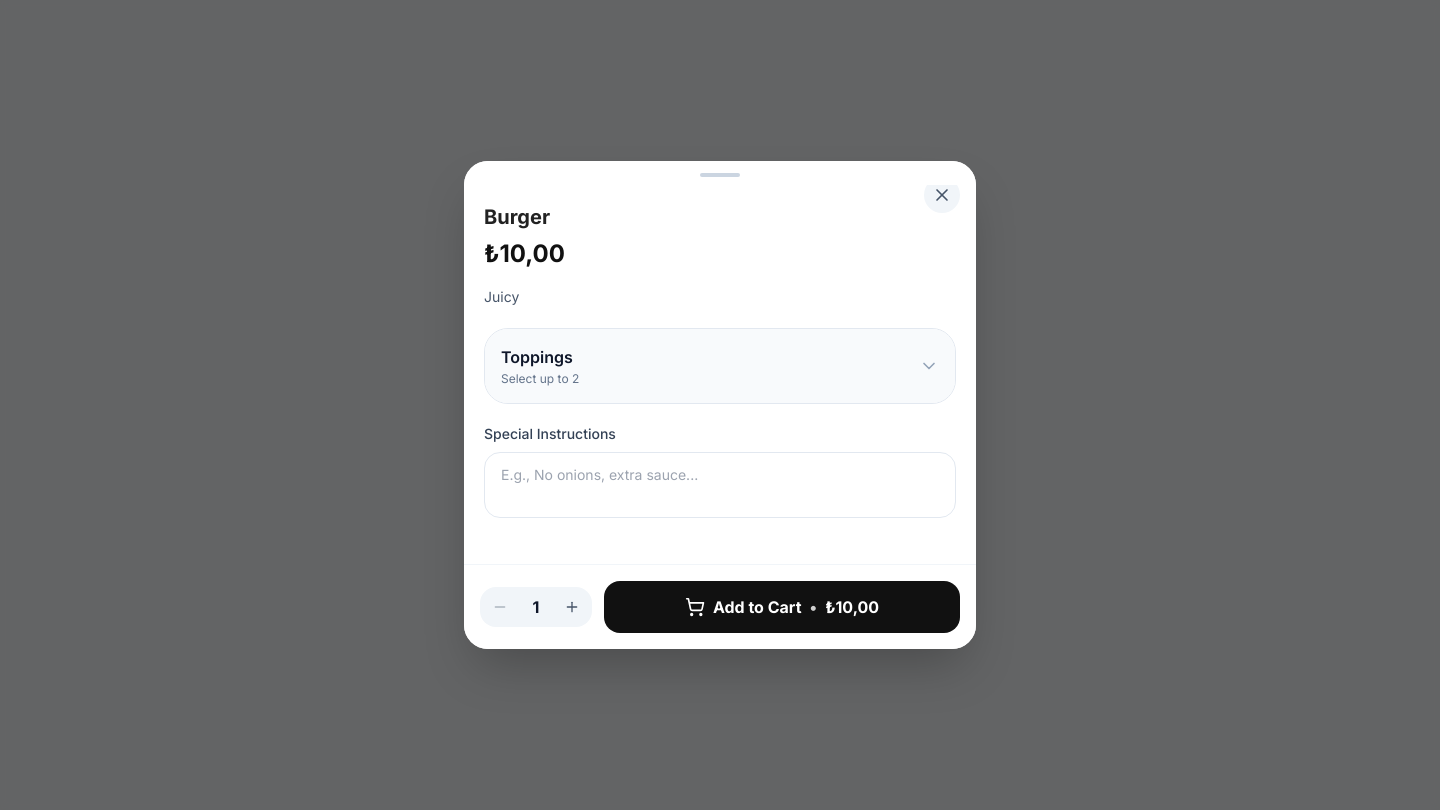
Test: ProductDetailModalWithCart — multi-select max enforcement › deselecting frees a slot so a different option can be chosen
The width and height of the screenshot is (1440, 810).
Step 1. Click the button "Toppings Select up to 2" → (537, 357), box [485,329,955,403]
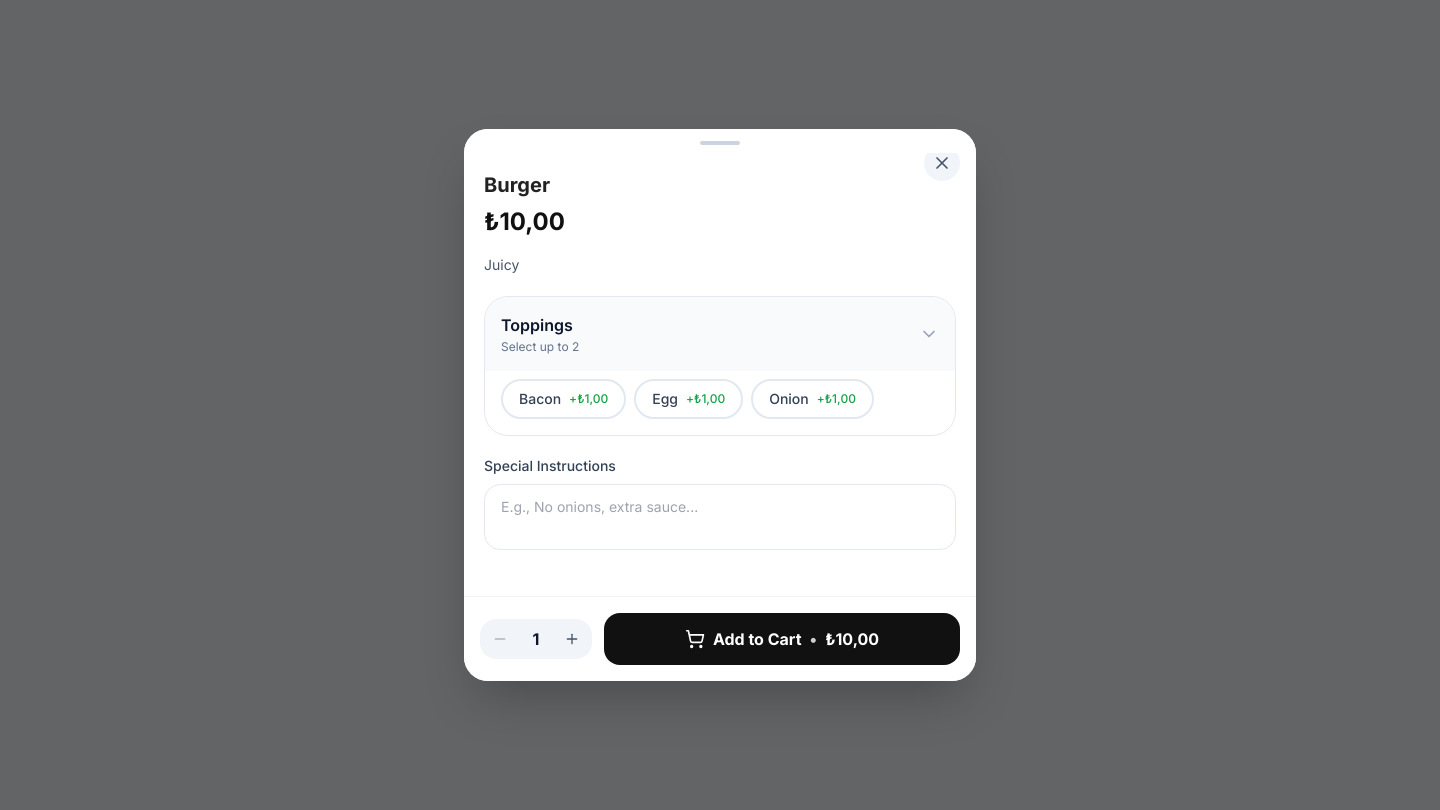
Step 2. Click the button "Bacon +₺1,00" → (564, 399), box [501,379,626,419]
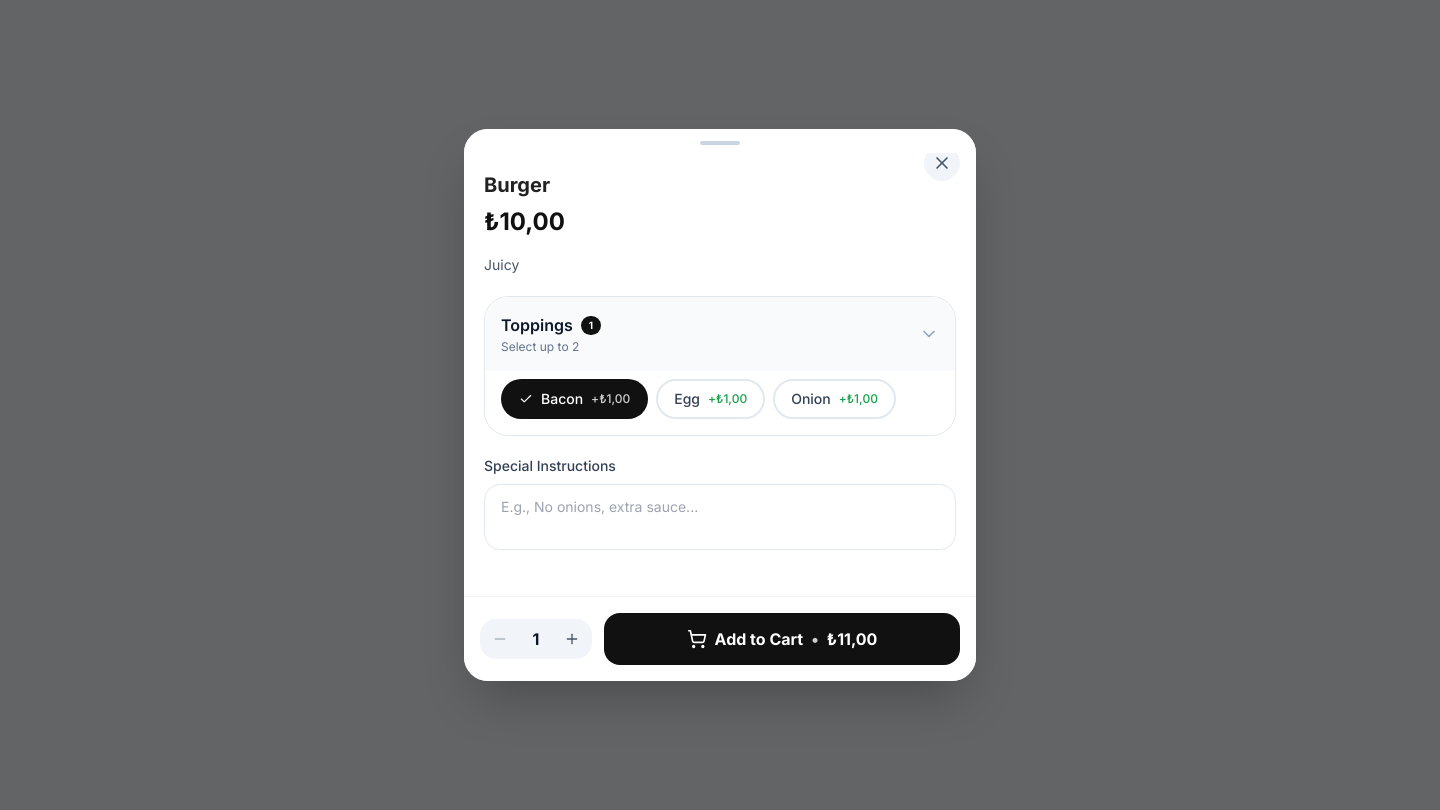
Step 3. Click the button "Egg +₺1,00" → (711, 399), box [656,379,765,419]
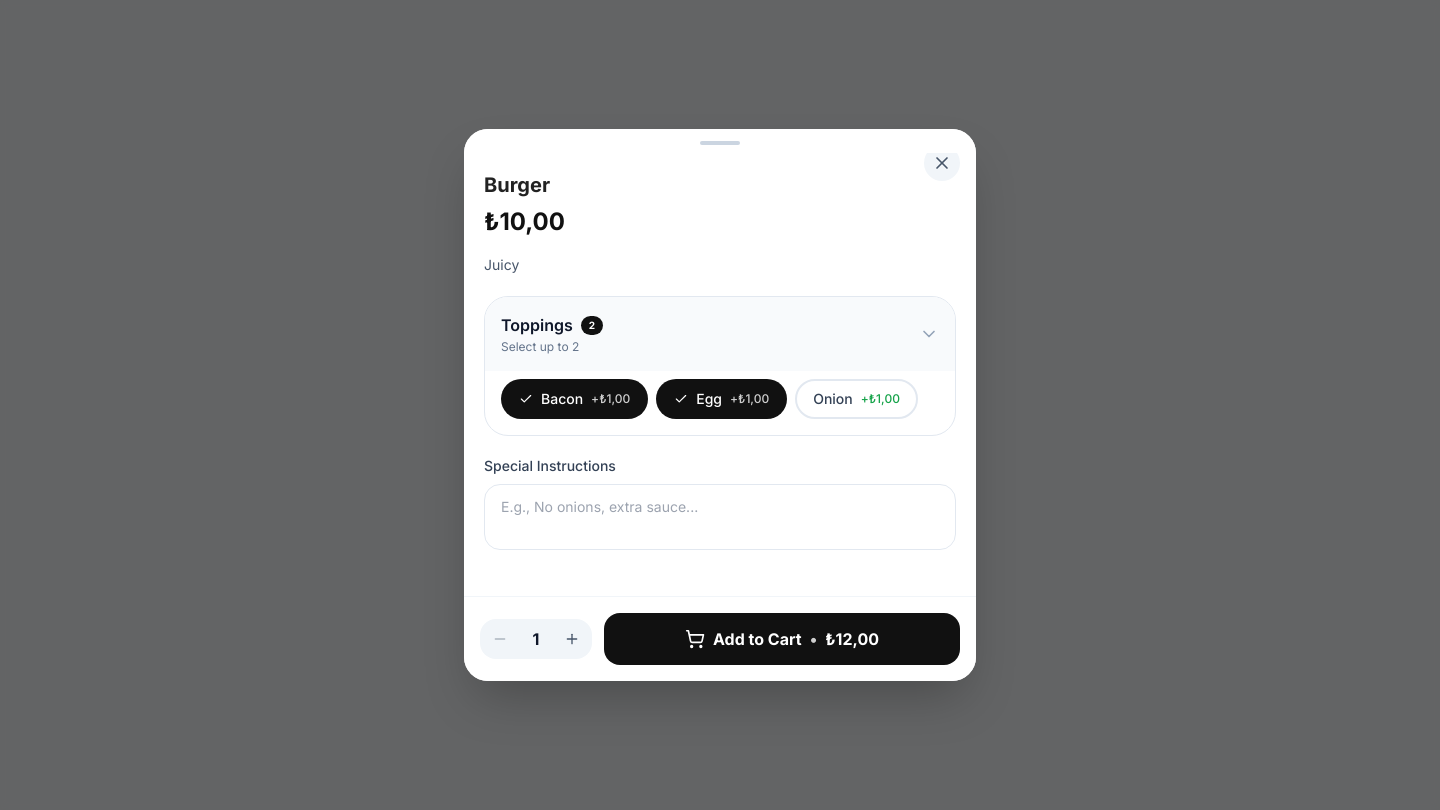
Step 4. Click the button "Bacon +₺1,00" → (575, 399), box [501,379,648,419]
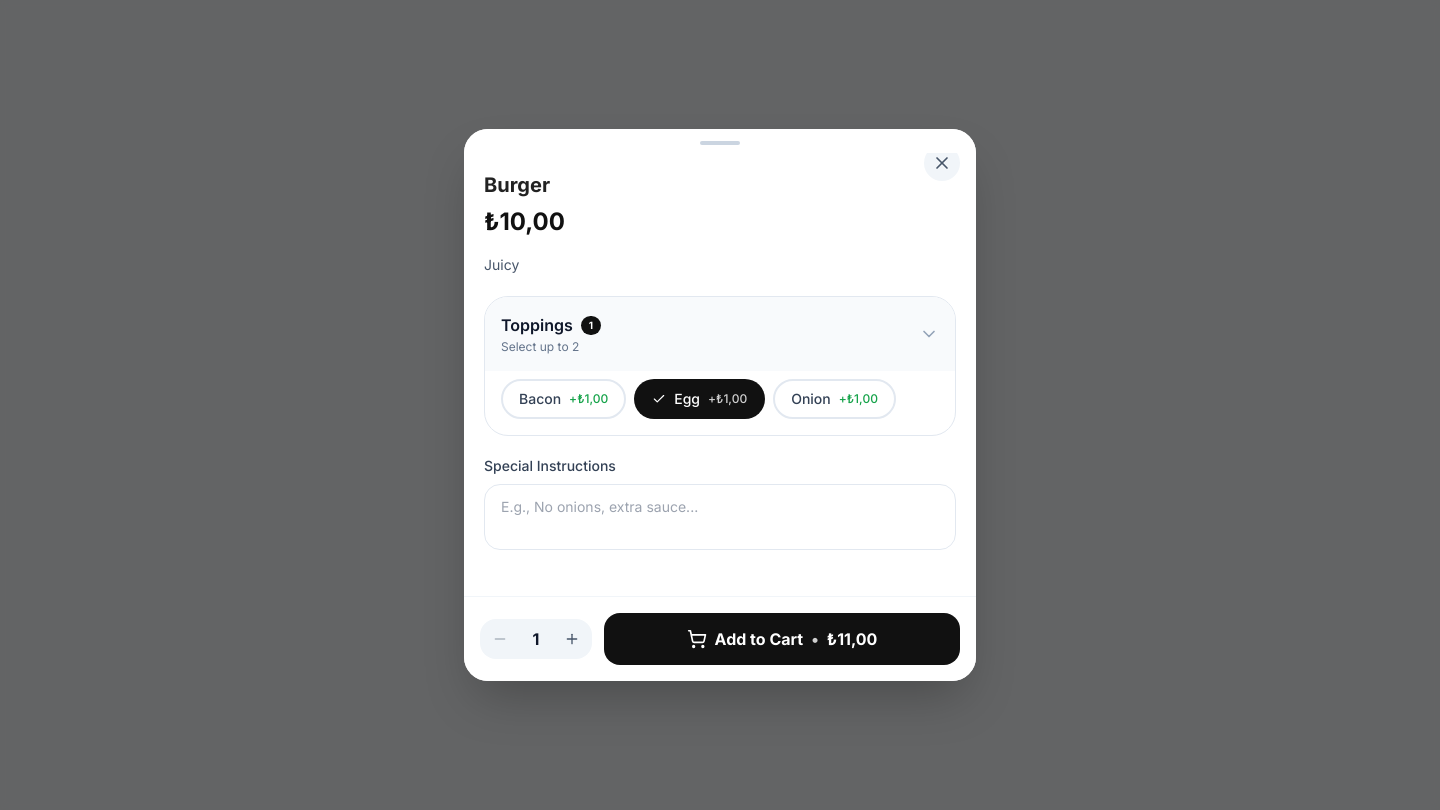
Step 5. Click the button "Onion +₺1,00" → (835, 399), box [773,379,896,419]
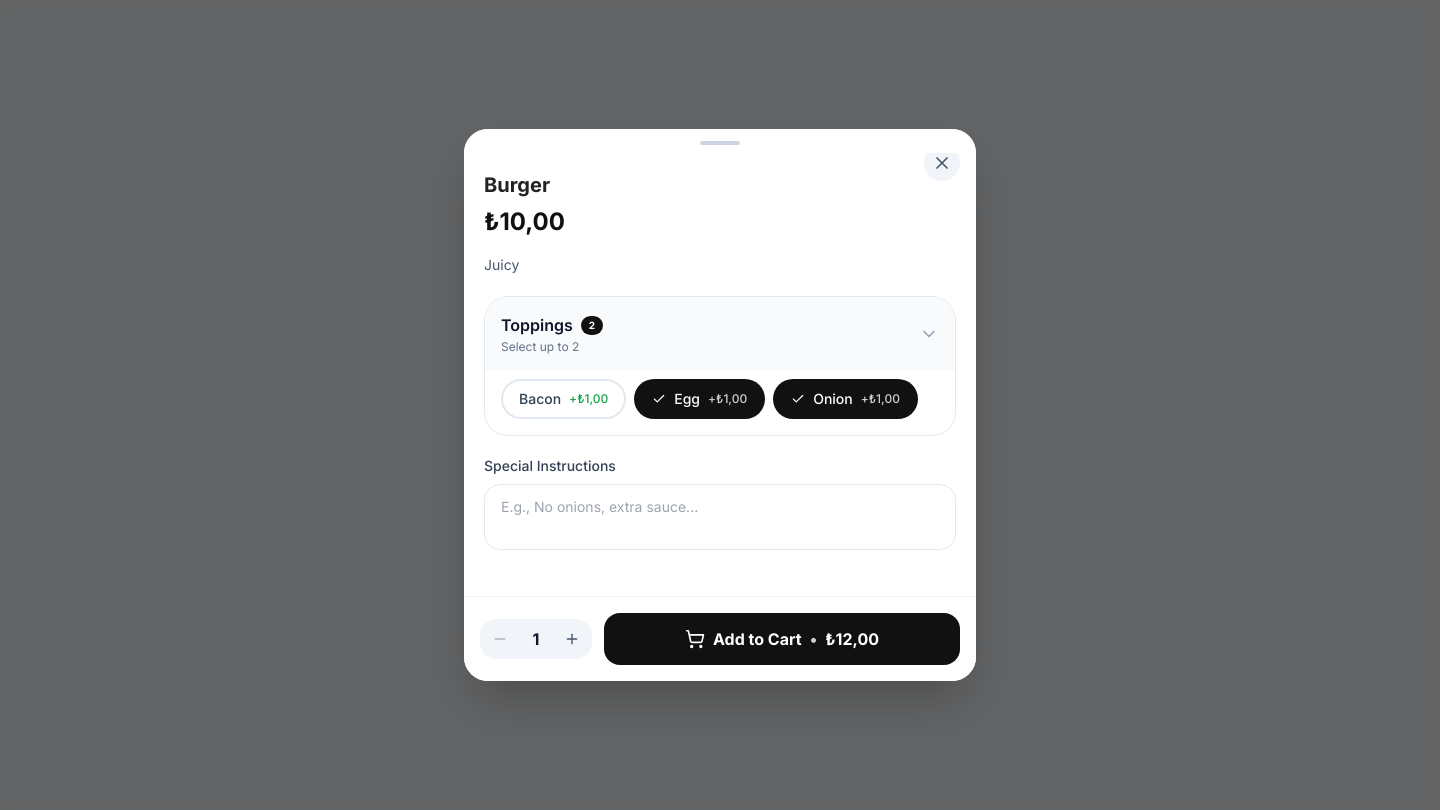
Result: the button "Add to Cart • ₺12,00" is shown at [604,613,960,665]
